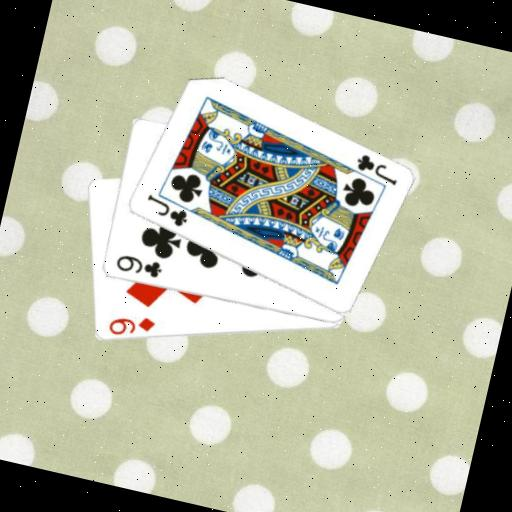9C: (111, 251, 165, 283)
9D: (104, 306, 158, 345)
JC: (139, 191, 192, 231), (349, 150, 403, 189)
